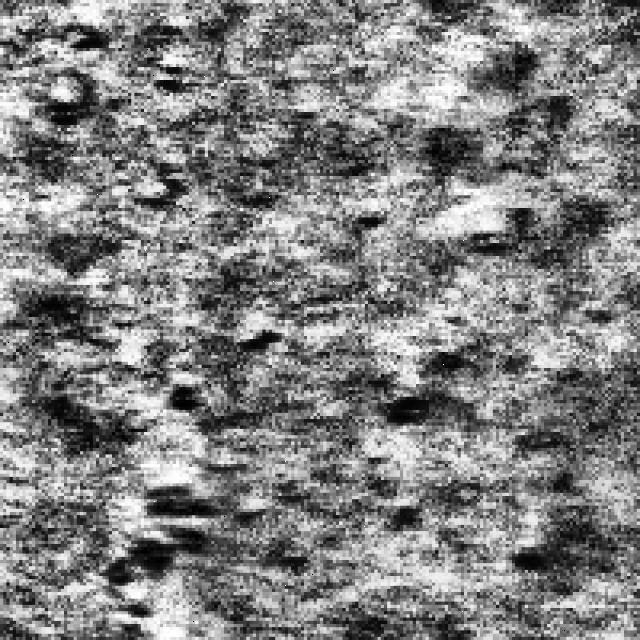Crazing: (106, 378, 256, 634), (48, 25, 186, 202)
